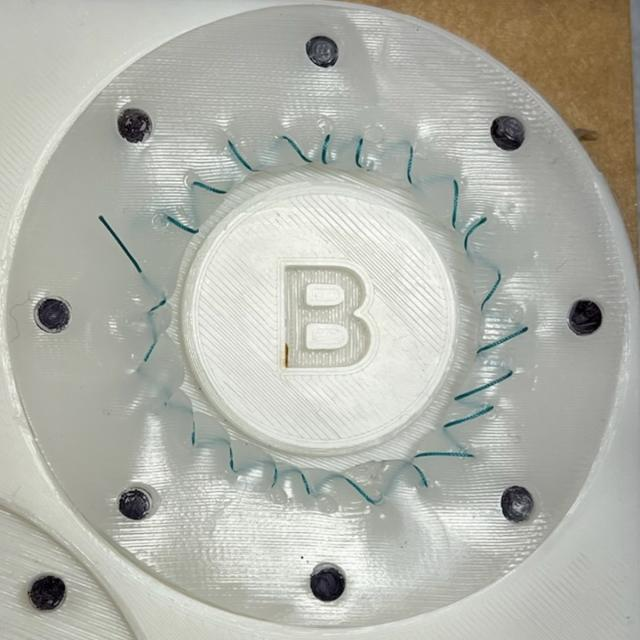suture: (98, 215, 142, 274), (454, 369, 513, 401), (476, 326, 529, 355), (336, 474, 376, 505), (442, 406, 494, 428), (228, 140, 261, 173), (281, 135, 314, 163), (464, 216, 488, 253), (481, 270, 500, 312), (165, 214, 199, 235), (192, 181, 229, 194), (412, 453, 474, 460), (413, 464, 429, 488), (147, 298, 167, 314), (452, 178, 458, 231), (228, 445, 239, 473), (322, 134, 331, 165), (299, 472, 311, 495), (142, 344, 156, 362), (355, 138, 363, 168), (407, 145, 413, 185), (270, 463, 278, 488), (191, 418, 196, 449), (162, 402, 170, 408)
